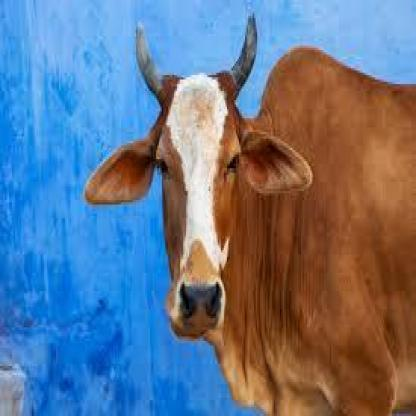cow: (84, 11, 416, 415)
